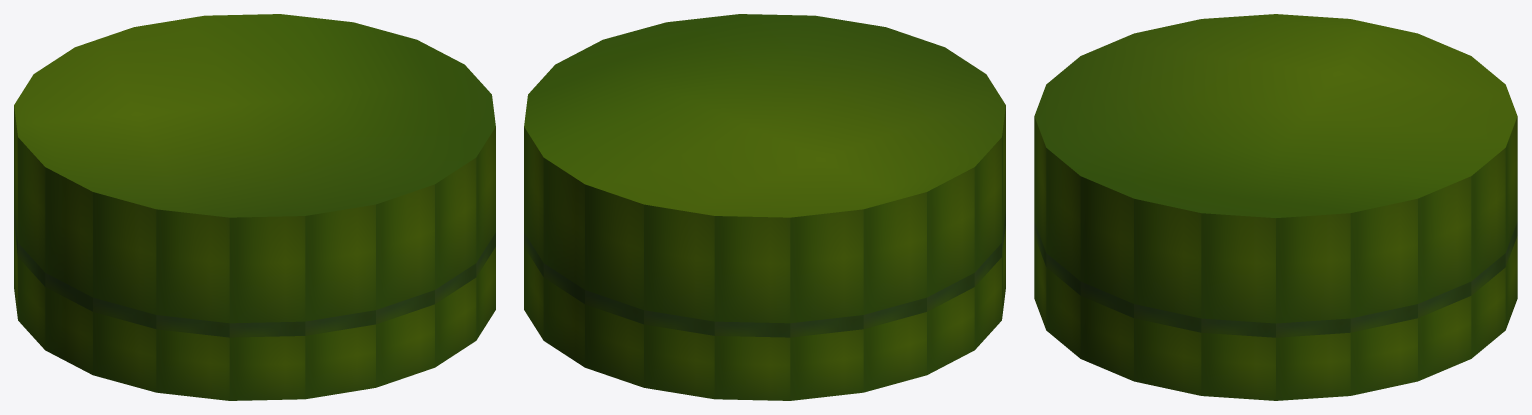
File: PLF0110157.fbx
3 views of the same model, side by side, from view 1: azimuth 30°, elevation 25°; view 2: azimuth 150°, elevation 25°; view 3: azimuth 270°, elevation 25° (orthographic).
Parts seen in each view (by area): view 1: smPLF0110157; view 2: smPLF0110157; view 3: smPLF0110157.
Part boxes in pixels (<box>): smPLF0110157: <box>14,14,495,400</box>; smPLF0110157: <box>524,14,1005,400</box>; smPLF0110157: <box>1034,14,1517,400</box>.
Size of the model in its own units: 227 by 94.65 by 227.
